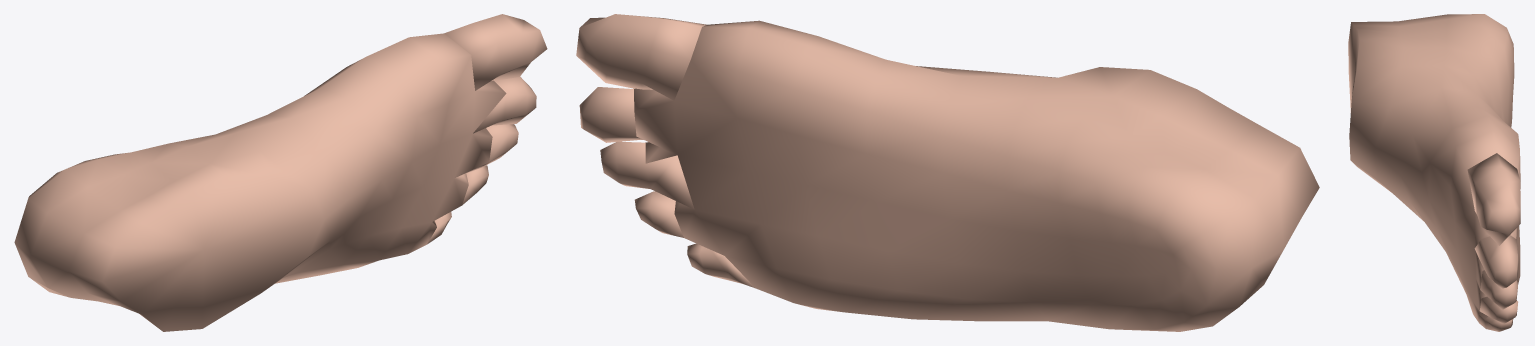
File: supr_female_foot.glb
The picture shows the model from 3 angles, left to right: view 1: azimuth 30°, elevation 25°; view 2: azimuth 150°, elevation 25°; view 3: azimuth 270°, elevation 25°; orthographic projection. The views are drawn at different scales.
Visible parts, largest first — view 1: visual__foot_base__0, visual__big_toe__0, visual__toe_2__0, visual__toe_3__0, visual__toe_4__0; view 2: visual__foot_base__0, visual__big_toe__0, visual__toe_3__0, visual__toe_2__0, visual__toe_4__0, visual__toe_5__0; view 3: visual__foot_base__0, visual__big_toe__0, visual__toe_2__0, visual__toe_3__0, visual__toe_4__0, visual__toe_5__0.
Boxes of the visible parts, x1,y1,x2,y2 form: visual__foot_base__0: (14,33,506,331); visual__big_toe__0: (444,14,547,90); visual__toe_2__0: (473,76,536,133); visual__toe_3__0: (458,124,518,176); visual__toe_4__0: (462,165,488,205); visual__foot_base__0: (634,20,1319,331); visual__big_toe__0: (576,14,706,100); visual__toe_3__0: (600,141,694,209); visual__toe_2__0: (579,87,643,142); visual__toe_4__0: (634,191,683,237); visual__toe_5__0: (687,243,755,288); visual__foot_base__0: (1348,14,1520,322); visual__big_toe__0: (1467,153,1520,245); visual__toe_2__0: (1474,235,1517,288); visual__toe_3__0: (1480,270,1517,309); visual__toe_4__0: (1479,296,1518,323); visual__toe_5__0: (1478,313,1513,331).
Bounding box in the file's own units: 0.2434 × 0.093 × 0.0728.
